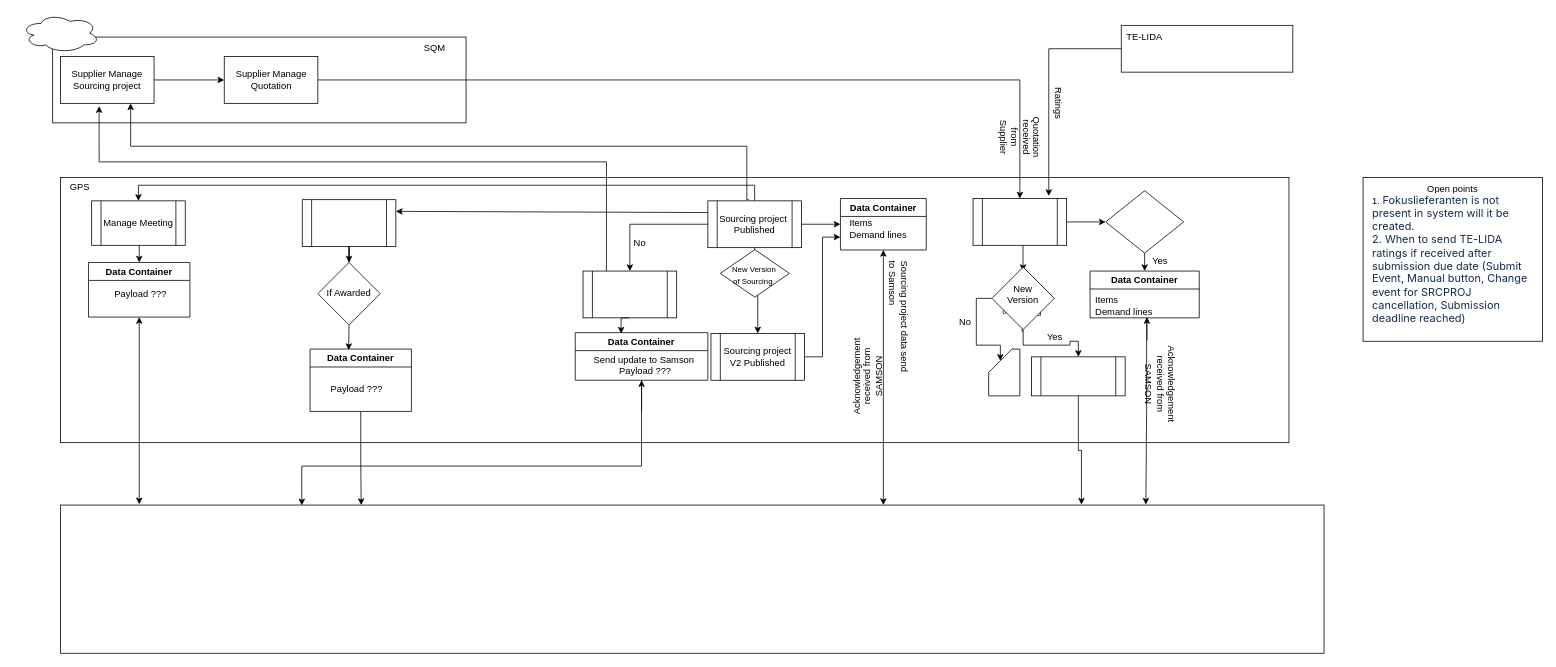
Some shapes in this 1556 by 667 pixel diagram are drawn without their labels. Here are the shapes that lost their labels. From the top down, the box of each, then its label:
(301, 199, 396, 246): Awarding Scenario
(972, 198, 1067, 245): Submitted Quotation
(1105, 190, 1184, 253): Check Submission deadline
(582, 270, 677, 318): Sourcing project Cancelled
(988, 348, 1020, 396): Do nothing
(1031, 356, 1125, 396): Send previous version quotation as cancelled
(60, 504, 1324, 653): Samson
